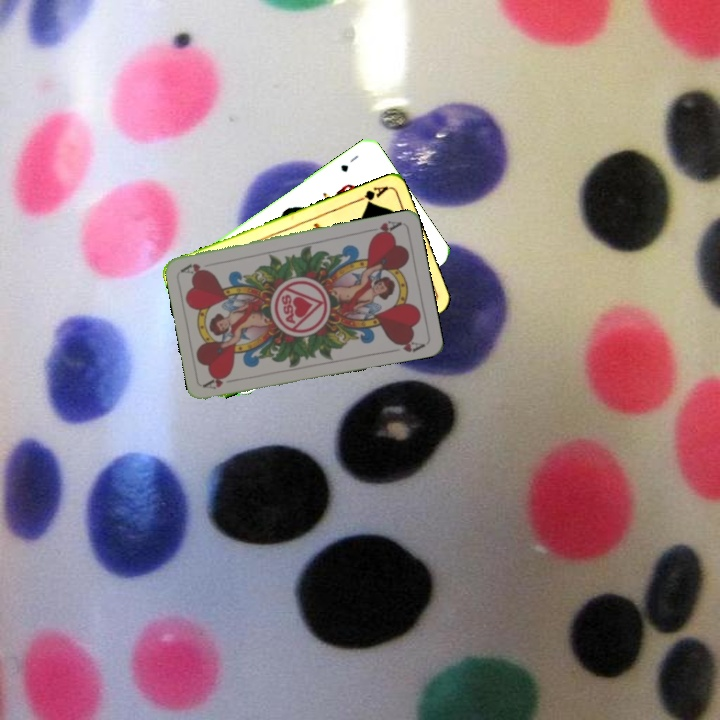GA: (351, 182, 390, 208)
GU: (337, 151, 361, 175)
HA: (201, 370, 241, 392), (367, 217, 404, 240)
